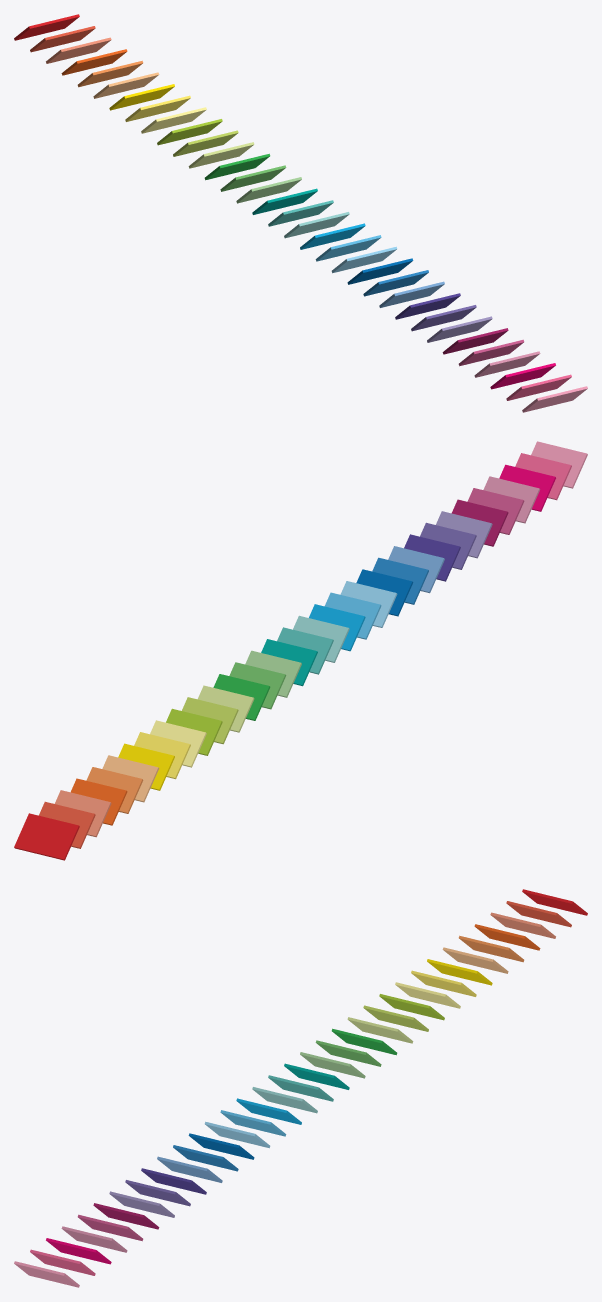
Rendered from Finish-pt (1).fbx.
The picture shows the model from 3 angles, top to bottom: view 1: azimuth 30°, elevation 25°; view 2: azimuth 150°, elevation 25°; view 3: azimuth 330°, elevation 25°; orthographic projection.
Visible parts, largest first — view 1: finish-pt08, finish-pt16, finish-pt24, finish-pt, finish-pt05, finish-pt27, finish-pt32, finish-pt13, finish-pt11, finish-pt19, finish-pt21, finish-pt02 (+21 smaller); view 2: finish-pt, finish-pt09, finish-pt02, finish-pt18, finish-pt25, finish-pt26, finish-pt21, finish-pt31, finish-pt01, finish-pt04, finish-pt06, finish-pt10 (+21 smaller); view 3: finish-pt08, finish-pt16, finish-pt24, finish-pt, finish-pt05, finish-pt27, finish-pt32, finish-pt13, finish-pt11, finish-pt19, finish-pt21, finish-pt02 (+21 smaller).
Boxes of the visible parts, bbox=[...] form: finish-pt08: bbox=[141, 107, 206, 133]; finish-pt16: bbox=[268, 200, 333, 226]; finish-pt24: bbox=[395, 293, 460, 319]; finish-pt: bbox=[14, 14, 79, 40]; finish-pt05: bbox=[93, 72, 159, 98]; finish-pt27: bbox=[442, 328, 508, 354]; finish-pt32: bbox=[522, 386, 587, 412]; finish-pt13: bbox=[220, 165, 286, 191]; finish-pt11: bbox=[188, 142, 254, 168]; finish-pt19: bbox=[315, 235, 381, 261]; finish-pt21: bbox=[347, 258, 413, 284]; finish-pt02: bbox=[46, 37, 111, 63]; finish-pt: bbox=[14, 813, 79, 860]; finish-pt09: bbox=[166, 708, 222, 755]; finish-pt02: bbox=[54, 790, 111, 837]; finish-pt18: bbox=[309, 604, 365, 651]; finish-pt25: bbox=[420, 522, 476, 569]; finish-pt26: bbox=[436, 511, 492, 558]; finish-pt21: bbox=[356, 569, 413, 616]; finish-pt31: bbox=[515, 453, 571, 500]; finish-pt01: bbox=[39, 801, 95, 848]; finish-pt04: bbox=[86, 767, 143, 813]; finish-pt06: bbox=[118, 743, 174, 790]; finish-pt10: bbox=[182, 697, 238, 744]; finish-pt08: bbox=[395, 982, 460, 1008]; finish-pt16: bbox=[268, 1075, 333, 1101]; finish-pt24: bbox=[141, 1168, 206, 1194]; finish-pt: bbox=[522, 889, 587, 915]; finish-pt05: bbox=[442, 947, 508, 973]; finish-pt27: bbox=[93, 1203, 159, 1229]; finish-pt32: bbox=[14, 1261, 79, 1287]; finish-pt13: bbox=[315, 1040, 381, 1066]; finish-pt11: bbox=[347, 1017, 413, 1043]; finish-pt19: bbox=[220, 1110, 286, 1136]; finish-pt21: bbox=[188, 1133, 254, 1159]; finish-pt02: bbox=[490, 912, 555, 938].
Size of the model in its own units: 0.5578 by 0.2647 by 10.12.
1 material, 1 textured.
